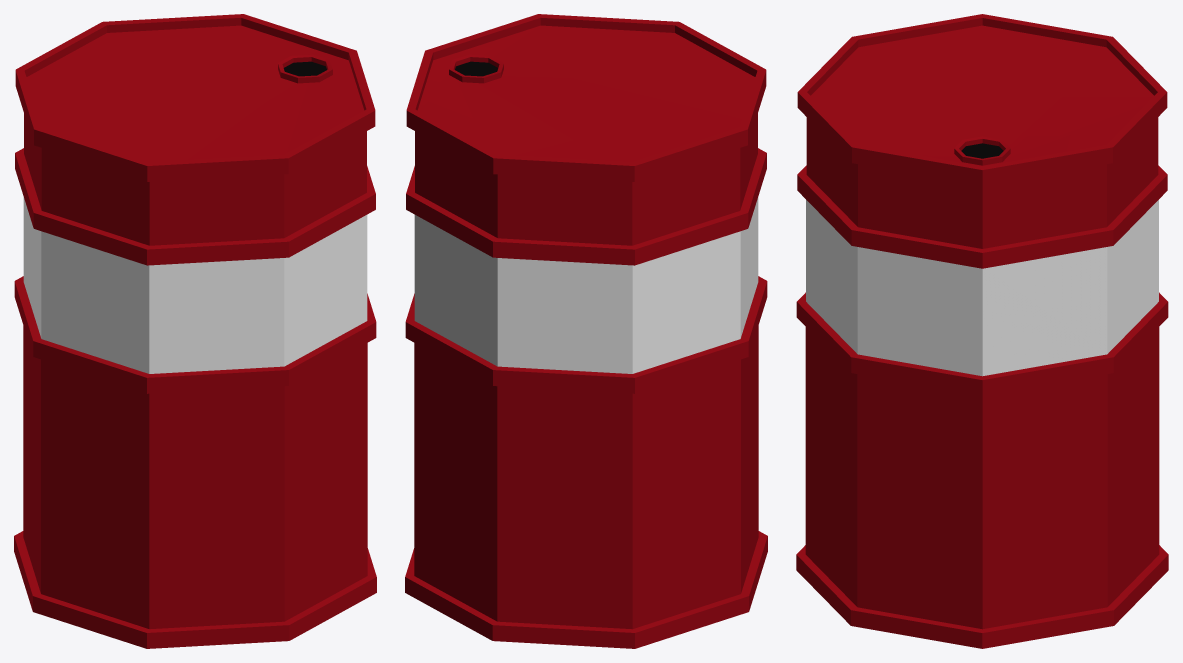
Rendered from RedBarrelF.fbx.
The picture shows the model from 3 angles, left to right: view 1: azimuth 30°, elevation 25°; view 2: azimuth 150°, elevation 25°; view 3: azimuth 270°, elevation 25°; orthographic projection.
Visible parts, largest first — view 1: RedBarrel; view 2: RedBarrel; view 3: RedBarrel.
Part boxes in pixels (left/top/right/bottom): RedBarrel: left=14, top=14, right=376, bottom=648; RedBarrel: left=405, top=14, right=767, bottom=648; RedBarrel: left=796, top=14, right=1168, bottom=648.
Size of the model in its own units: 400 by 567 by 400.
